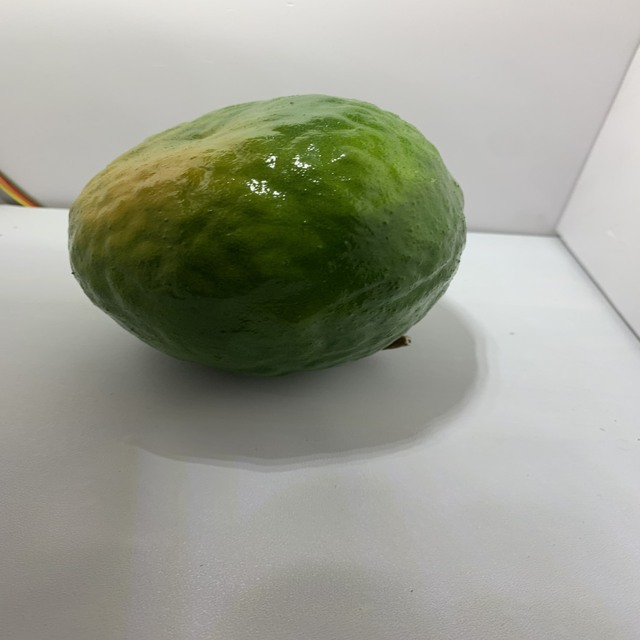Cam xanh: (68, 86, 476, 383)
